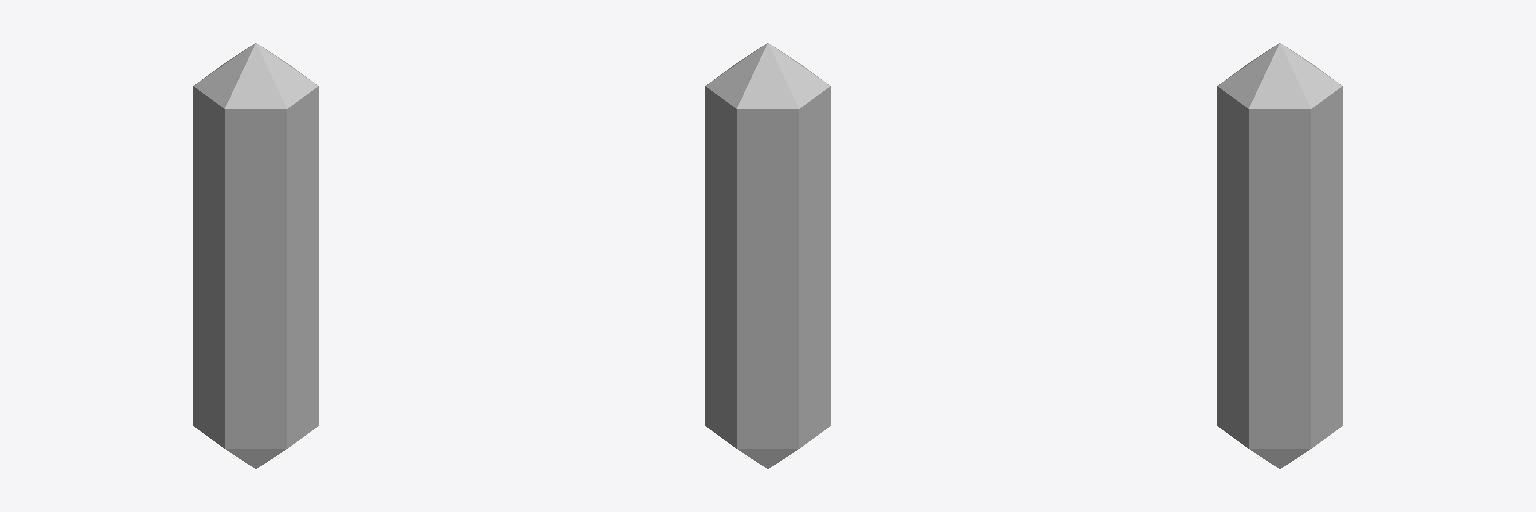
File: hex_crystal_big.obj
The picture shows the model from 3 angles: view 1: azimuth 30°, elevation 25°; view 2: azimuth 150°, elevation 25°; view 3: azimuth 270°, elevation 25°; orthographic projection.
Visible parts, largest first — view 1: Cylinder; view 2: Cylinder; view 3: Cylinder.
Boxes of the visible parts, x1=… form: Cylinder: x1=193, y1=43, x2=318, y2=468; Cylinder: x1=705, y1=43, x2=830, y2=468; Cylinder: x1=1217, y1=43, x2=1342, y2=468.
Size of the model in its own units: 0.866 by 3.76 by 1.